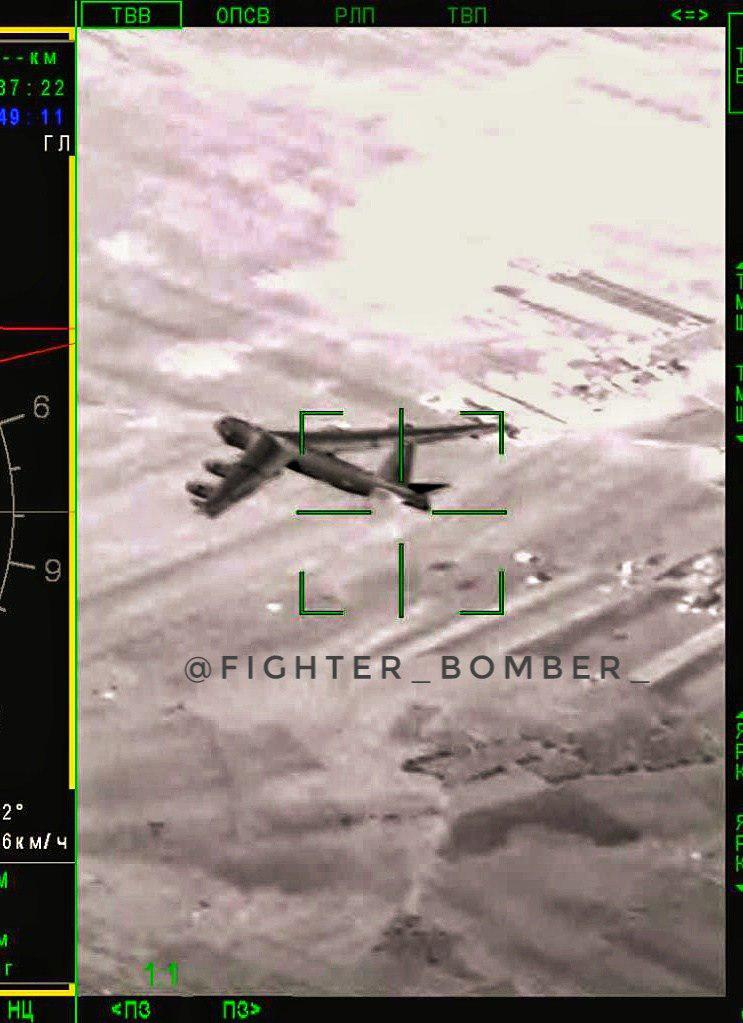airplane: (184, 415, 499, 521)
